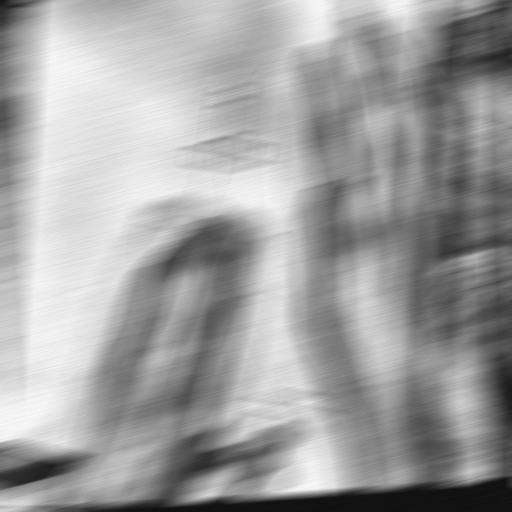bottom_left: (0, 436, 8, 444)
eiffel-tower: (74, 43, 370, 425)
top_right: (421, 2, 440, 6)
